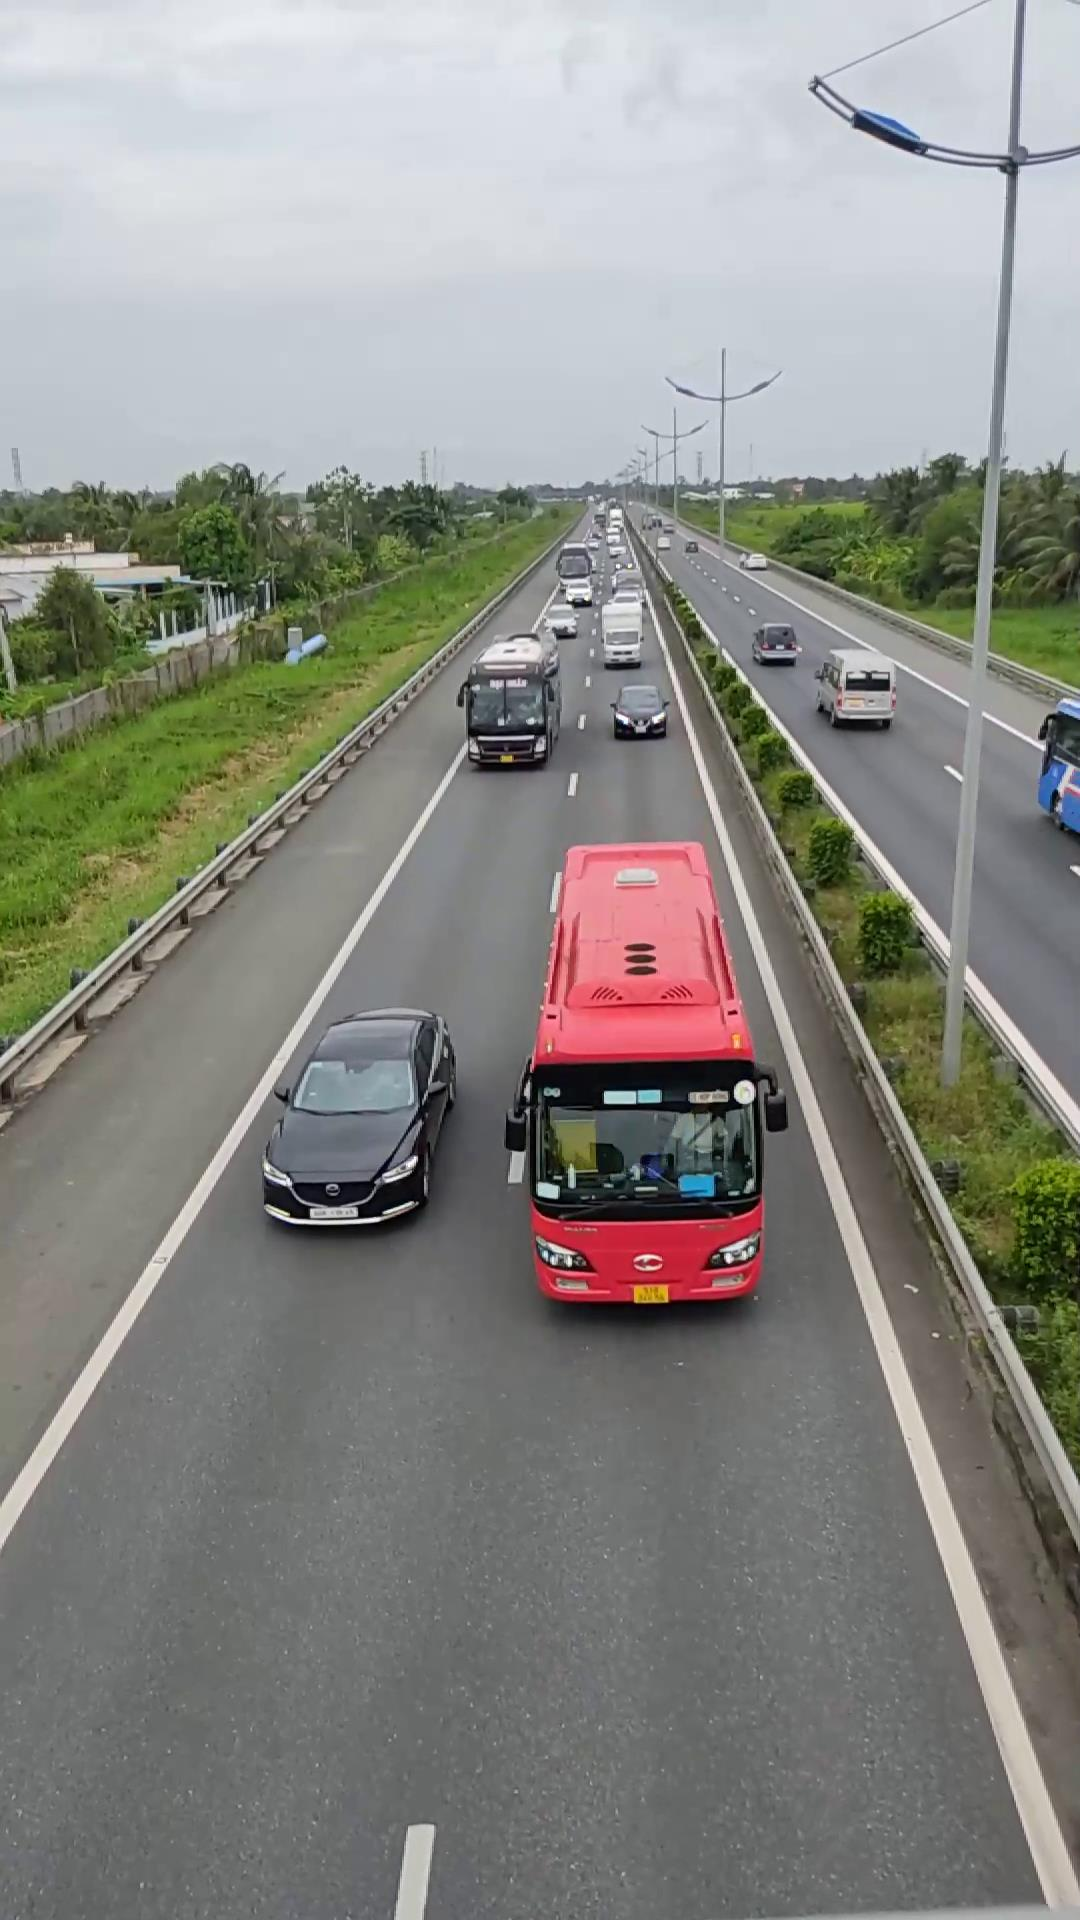bus: (506, 829, 774, 1311)
car: (248, 1011, 446, 1229), (812, 644, 898, 727)
truck: (462, 634, 559, 767)
